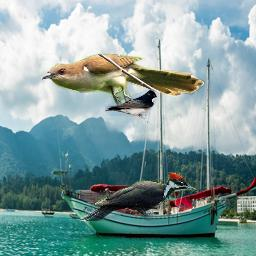Cuckoo: (41, 54, 205, 112)
Swallow: (105, 90, 157, 119)
Woodpecker: (80, 172, 197, 221)
